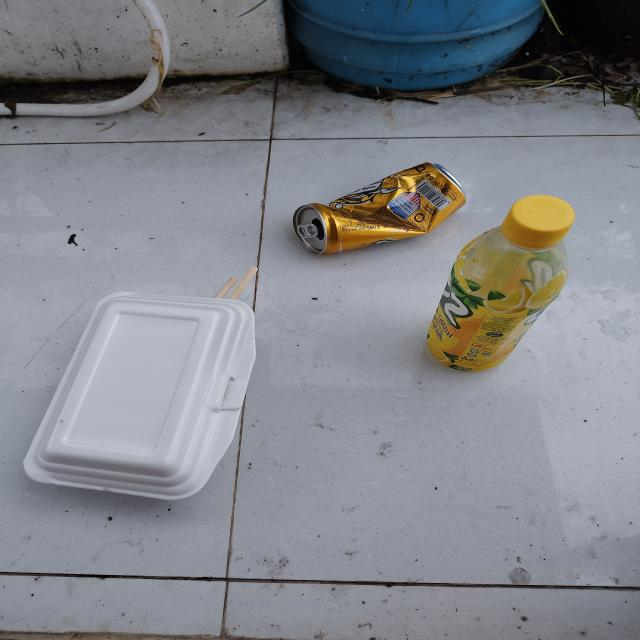bottle: (425, 195, 576, 373)
can: (290, 161, 466, 254)
foam box: (22, 292, 260, 502)
